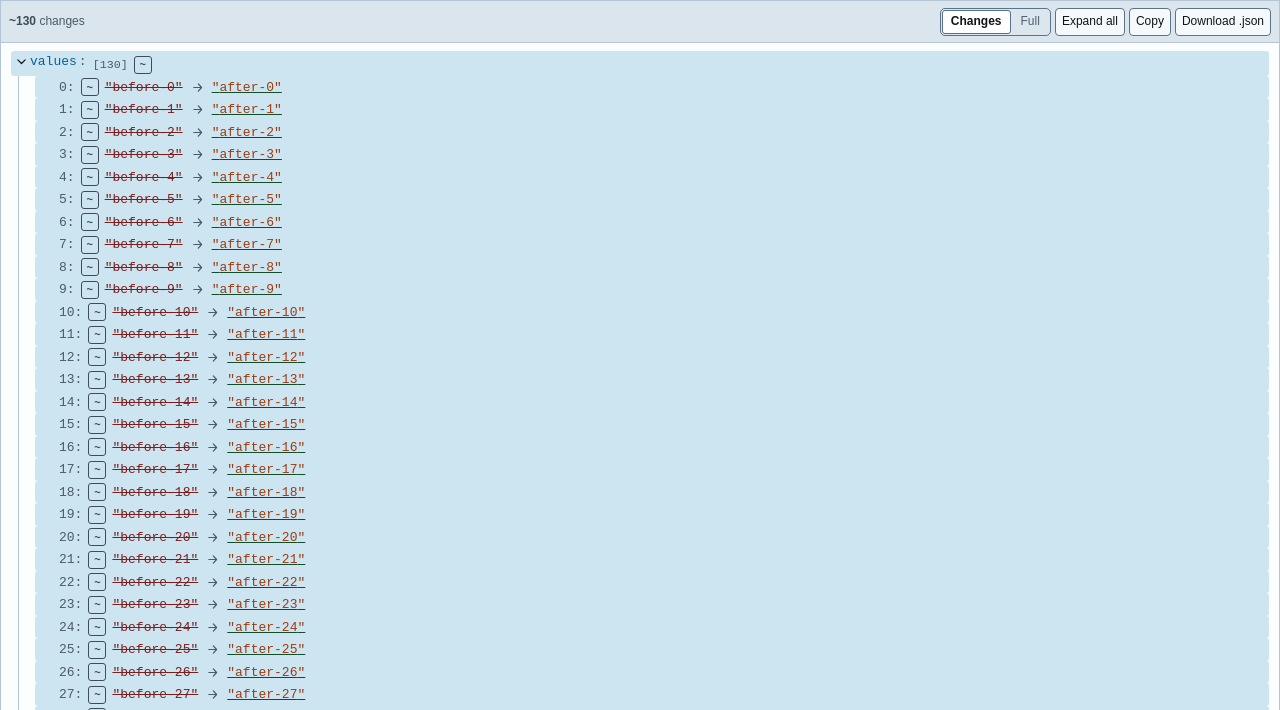
Inspector JSON controls › Expand all bypasses chunking and Collapse unchanged returns to changed paths
Click the button "Expand all" at (1090, 22), box [1055, 8, 1125, 36]
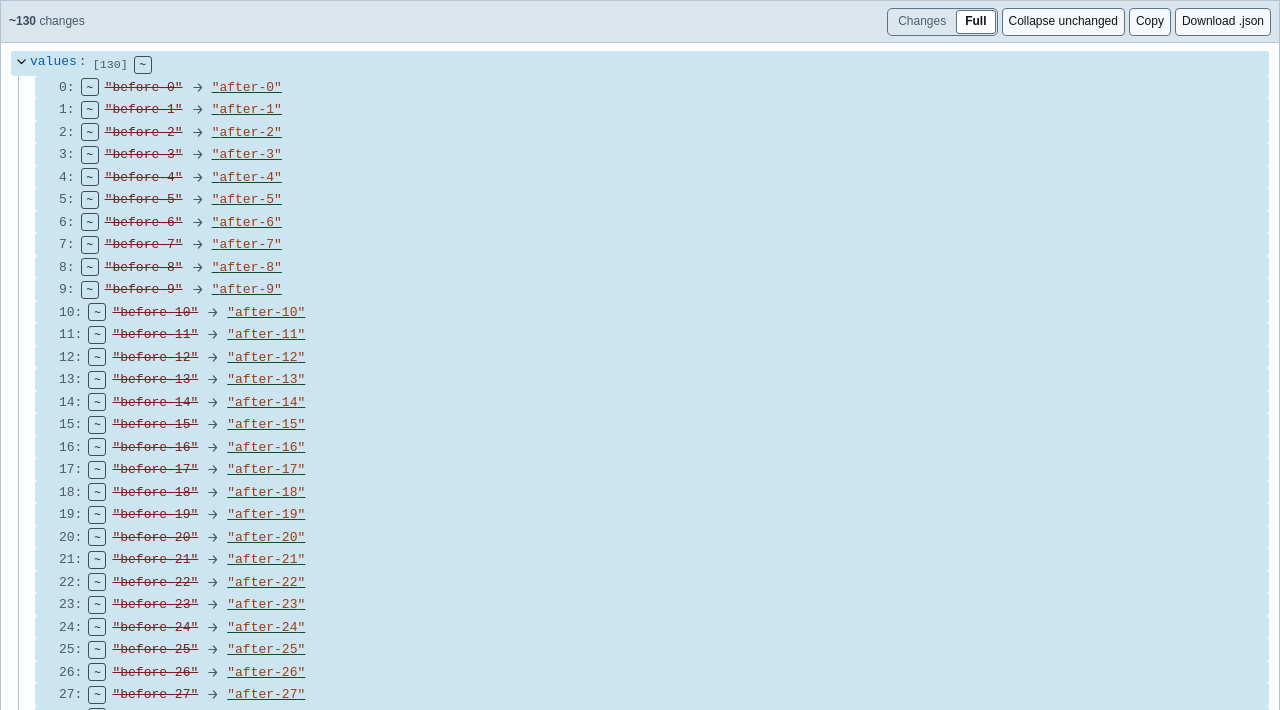
Expected: the text "Collapse unchanged" is shown
Click the button "Collapse unchanged" at (1063, 22), box [1002, 8, 1125, 36]
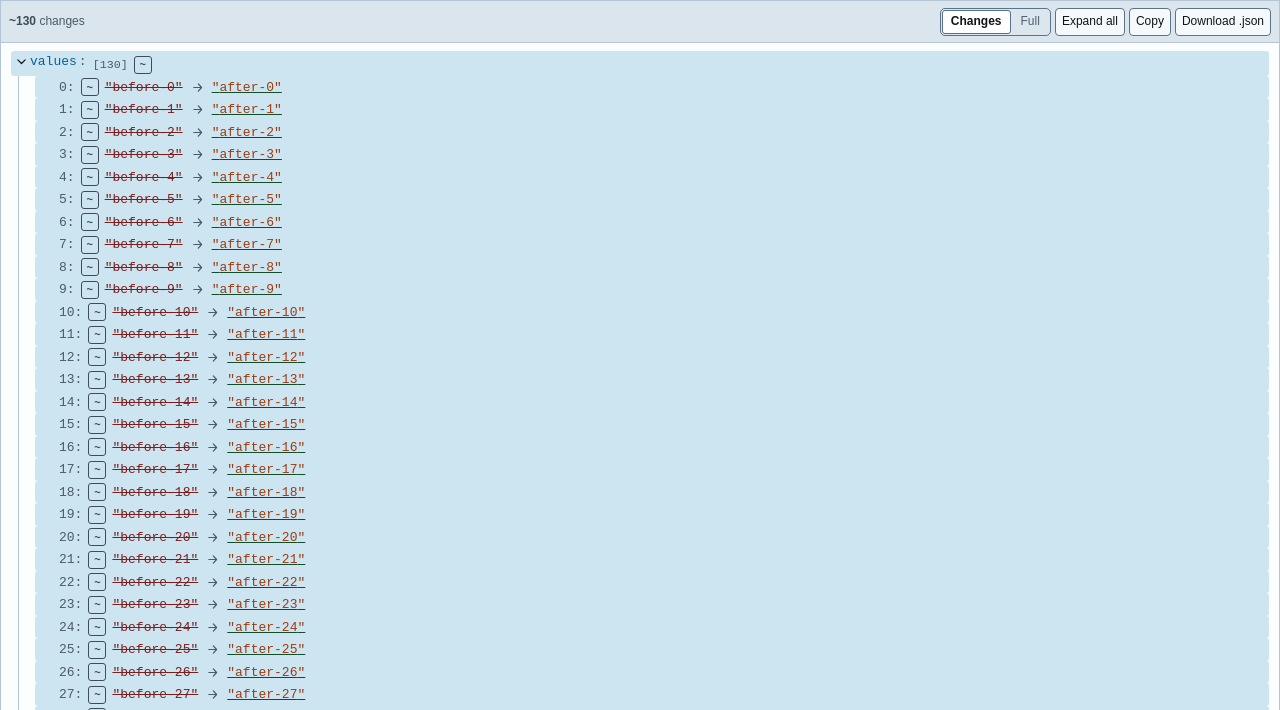
Expected: the text "Expand all" is shown, [1055, 8, 1125, 36]
